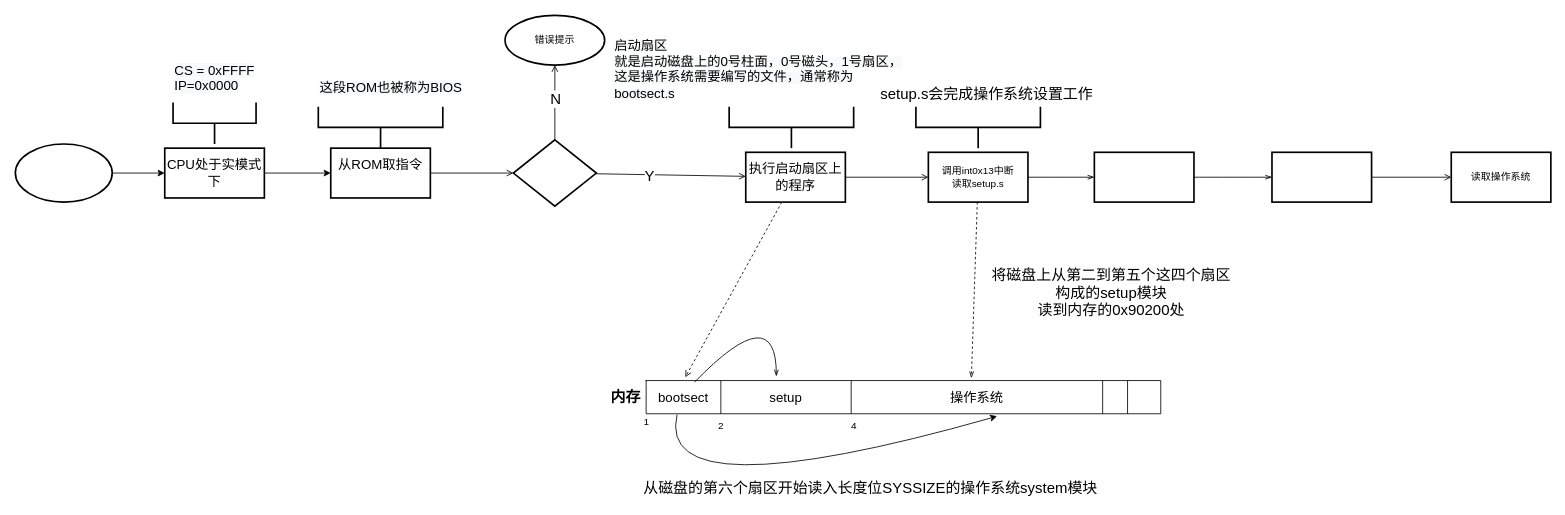
Some shapes in this 1565 by 515 pixel diagram are drawn without their labels. Each missing label, with the centre of its shape:
按下电源，启动操作系统: point 63,173
自检是否通过: point 554,173
获取磁道容量: point 1321,177
调用int0x10中断 输出logo: point 1143,177
